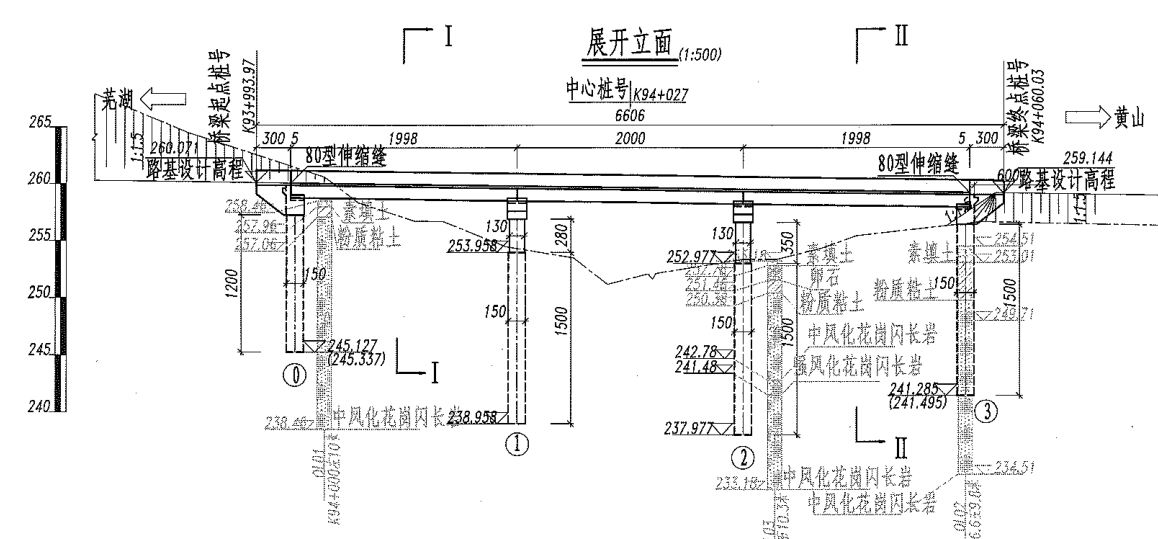A: (251, 108, 1011, 130)
C: (646, 197, 761, 472), (431, 194, 532, 459), (891, 202, 997, 431)
